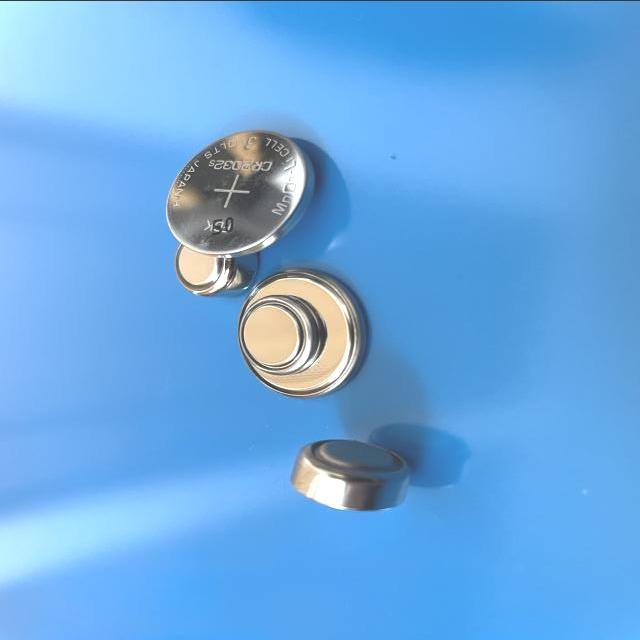COIN: (160, 127, 320, 256), (237, 266, 373, 399), (282, 433, 416, 513), (240, 293, 320, 372), (175, 229, 264, 299)
